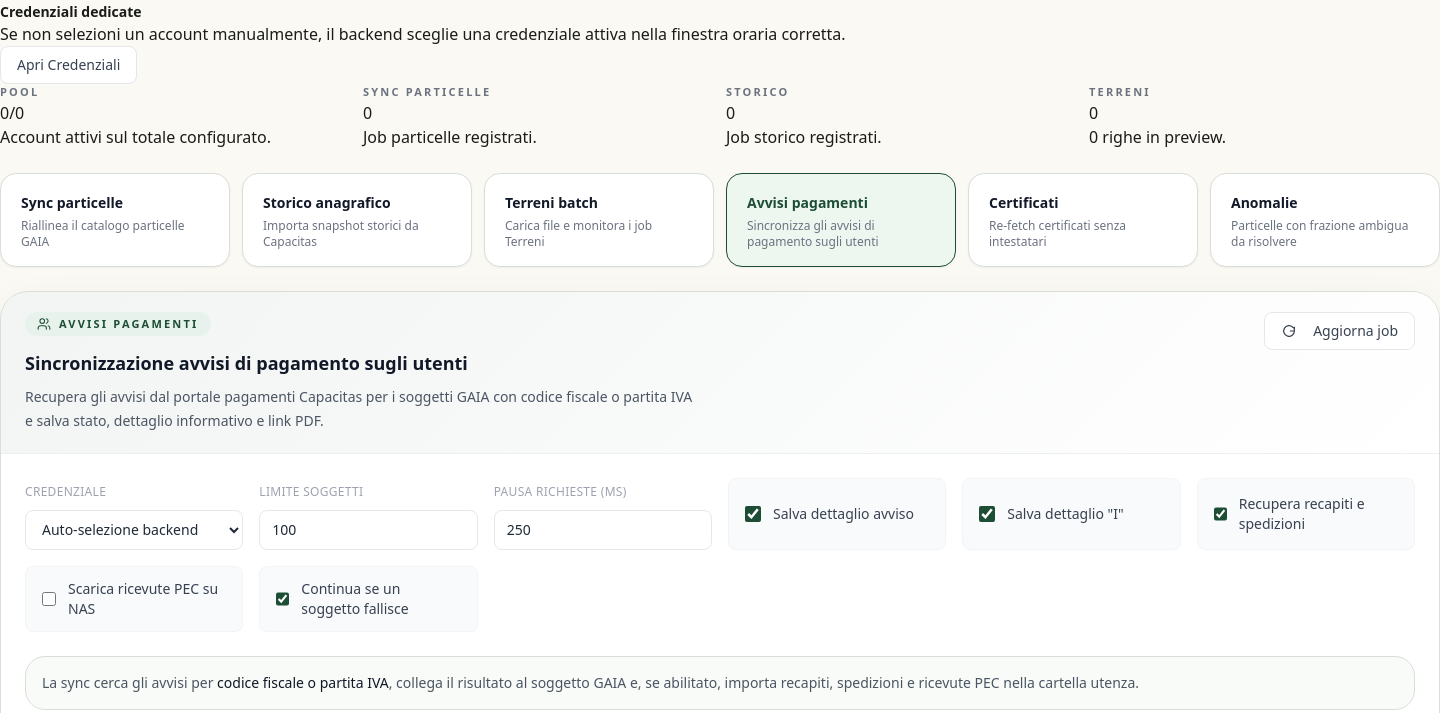
it: Capacitas inCASS command creation › submits the exact sync defaults through the real payload helper and then refreshes the list
Click the button "Avvisi pagamenti" at coordinates (841, 220), box [726, 172, 956, 266]
(page scrolled)
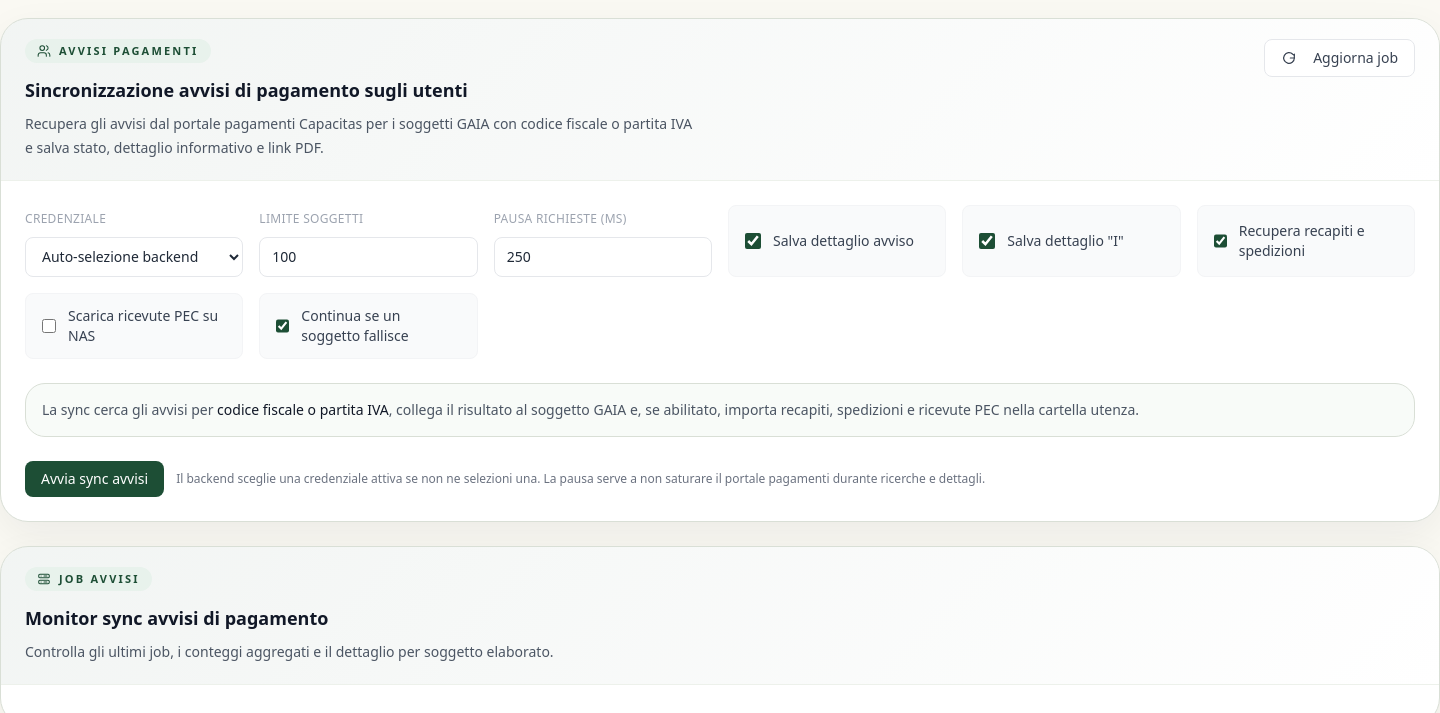
expect the text "Sincronizzazione avvisi di pagamento sugli utenti" is shown: met, box [25, 78, 468, 102]
Click the button "Avvia sync avvisi" at coordinates (95, 479), box [25, 461, 164, 497]
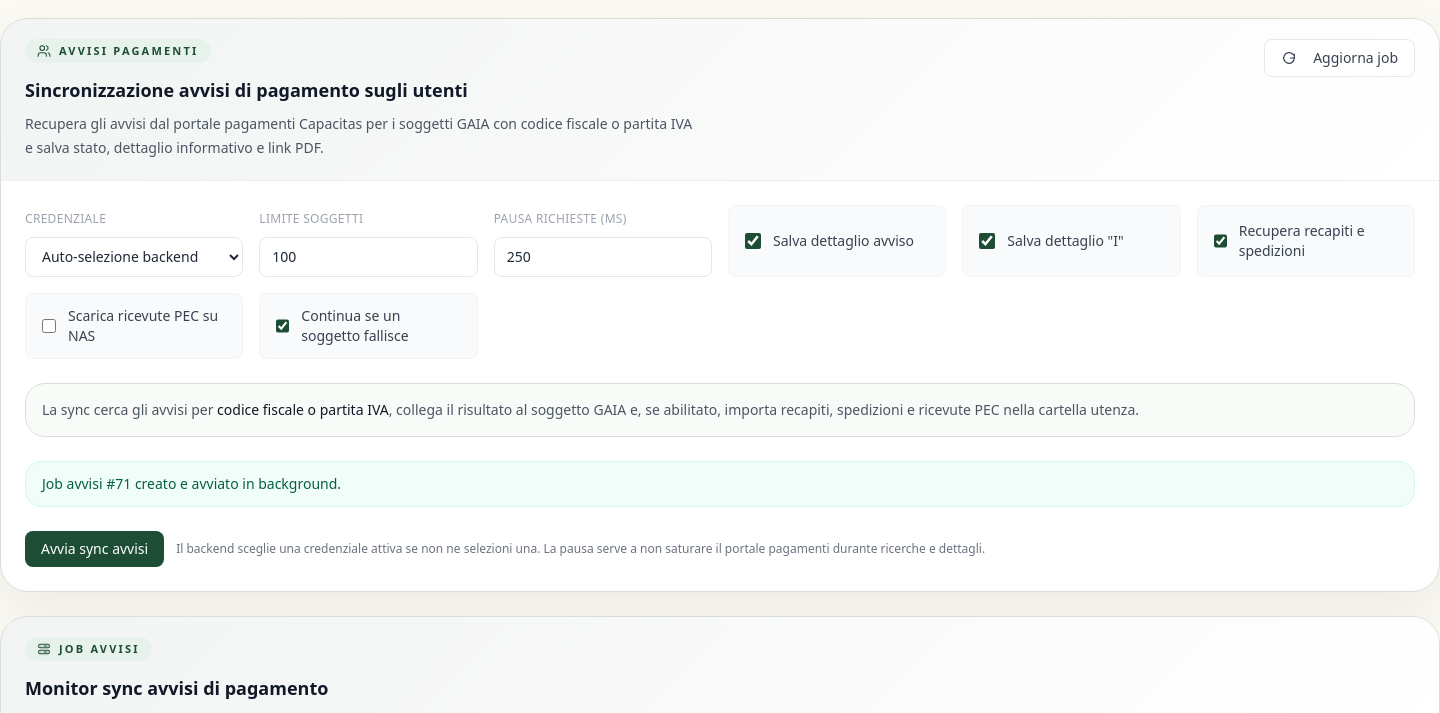
expect the text "Job avvisi #71 creato e avviato in background." is shown: met, box [25, 461, 1415, 507]
